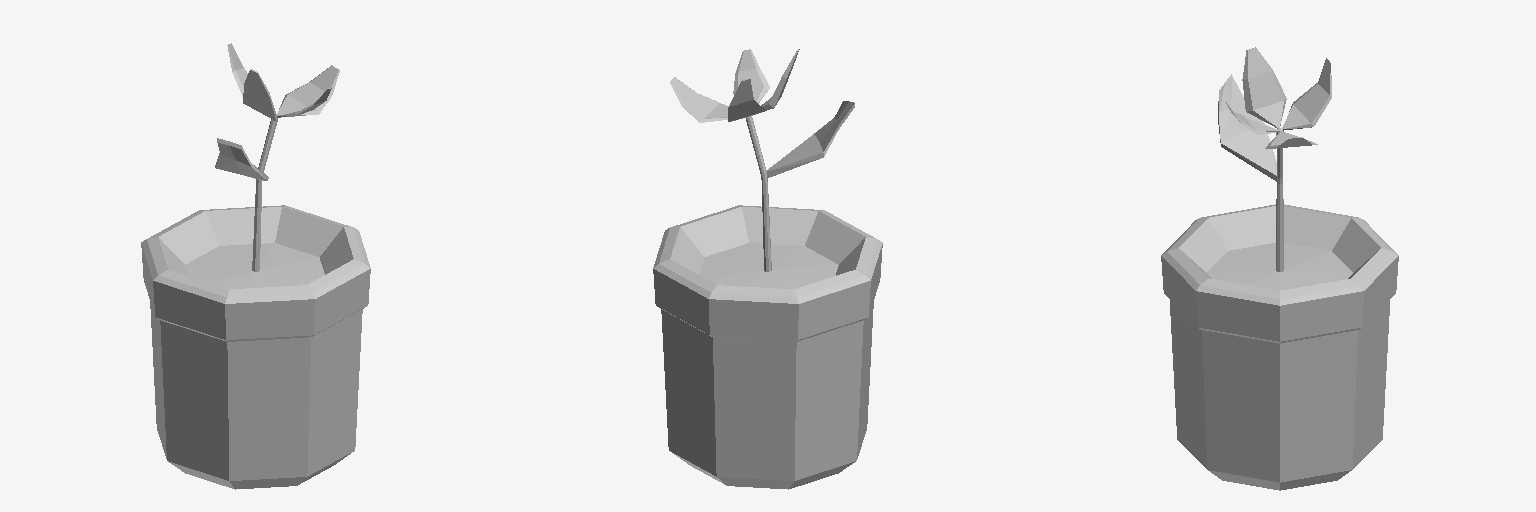
File: Flower_Pot_Model.obj
The picture shows the model from 3 angles: view 1: azimuth 30°, elevation 25°; view 2: azimuth 150°, elevation 25°; view 3: azimuth 270°, elevation 25°; orthographic projection.
Visible parts, largest first — view 1: Flower; view 2: Flower; view 3: Flower.
Boxes of the visible parts, <box> form: Flower: <box>141,43,370,489</box>; Flower: <box>653,49,882,489</box>; Flower: <box>1161,47,1398,490</box>.
Bounding box in the file's own units: 118 × 219 × 118.